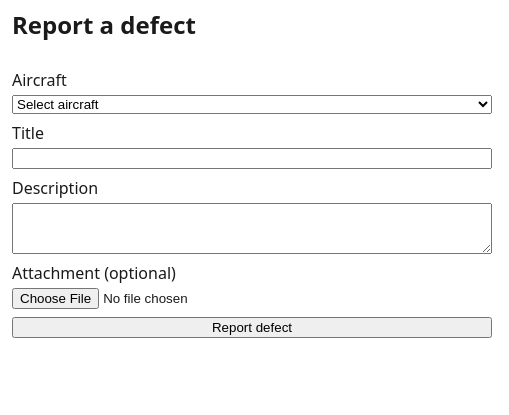
it: DefectForm validation › shows field errors and sends nothing when the input is invalid
This screenshot has width=509, height=415.
Click the button "Report defect" at {"x": 252, "y": 327}, box top-left (12, 317), bottom-right (492, 338)
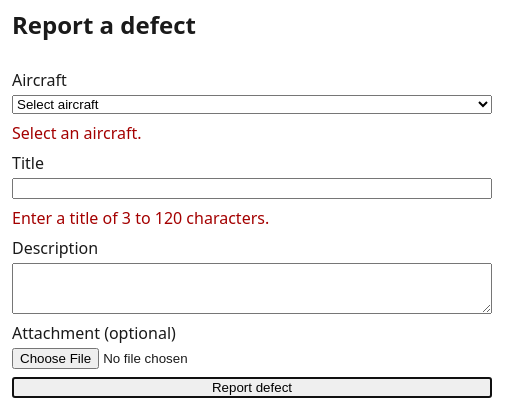
Check: the text "Select an aircraft." is shown, box top-left (12, 122), bottom-right (142, 144)
Check: the text "Enter a title of 3 to 120 characters." is shown, box top-left (12, 207), bottom-right (269, 229)
